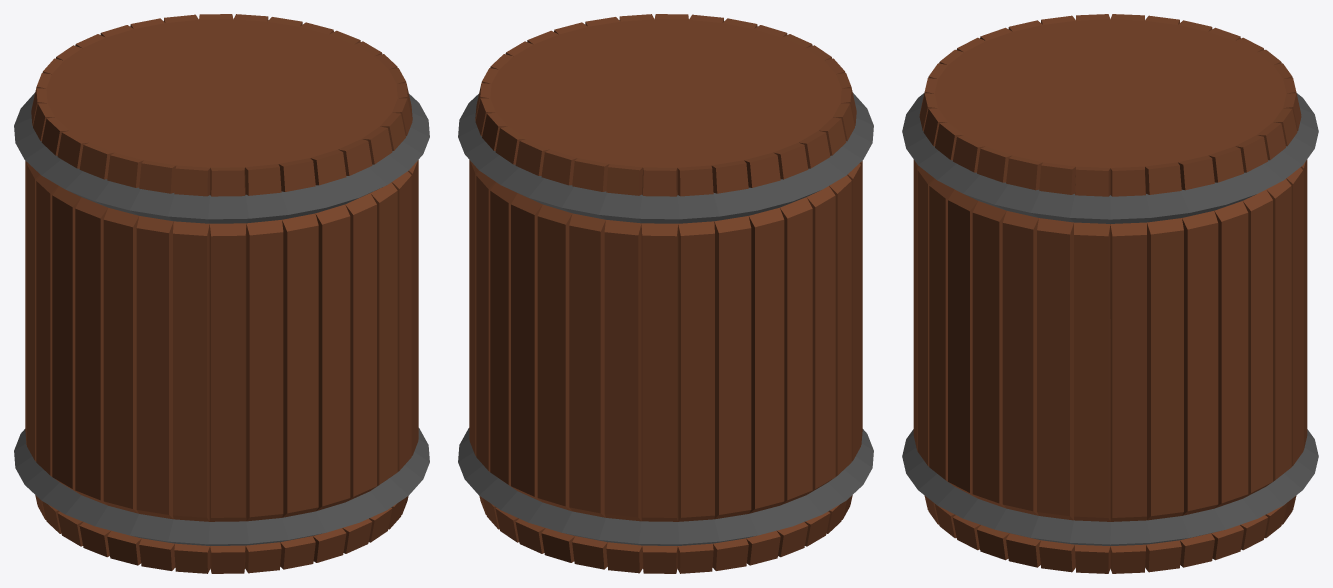
File: Barriles.001.fbx
3 renders of one model, left to right at view 1: azimuth 30°, elevation 25°; view 2: azimuth 150°, elevation 25°; view 3: azimuth 270°, elevation 25°, orthographic.
Parts seen in each view (by area): view 1: Barriles.001; view 2: Barriles.001; view 3: Barriles.001.
Part boxes in pixels (box(x1,y1,x2,y2)): Barriles.001: box(14, 14, 429, 573); Barriles.001: box(458, 14, 873, 573); Barriles.001: box(902, 14, 1318, 573).
Bounding box in the file's own units: 82.81 × 88.34 × 82.81.
